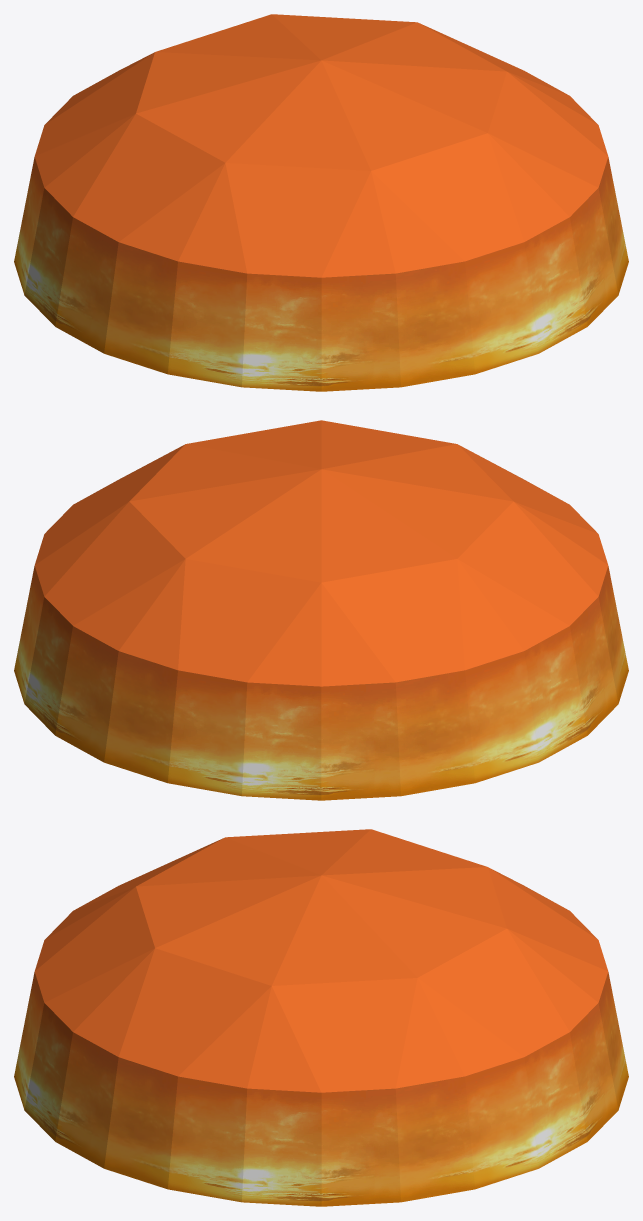
The model's file is Seaside Hill 2.fbx.
3 views of the same model, one above another, from view 1: azimuth 30°, elevation 25°; view 2: azimuth 150°, elevation 25°; view 3: azimuth 270°, elevation 25° (orthographic).
Parts seen in each view (by area): view 1: Seaside hill 2; view 2: Seaside hill 2; view 3: Seaside hill 2.
Part boxes in pixels (box(x1,y1,x2,y2)): Seaside hill 2: box(14, 14, 628, 391); Seaside hill 2: box(14, 420, 628, 800); Seaside hill 2: box(14, 829, 628, 1206).
Size of the model in its own units: 10000000 by 3639322 by 9999999.
